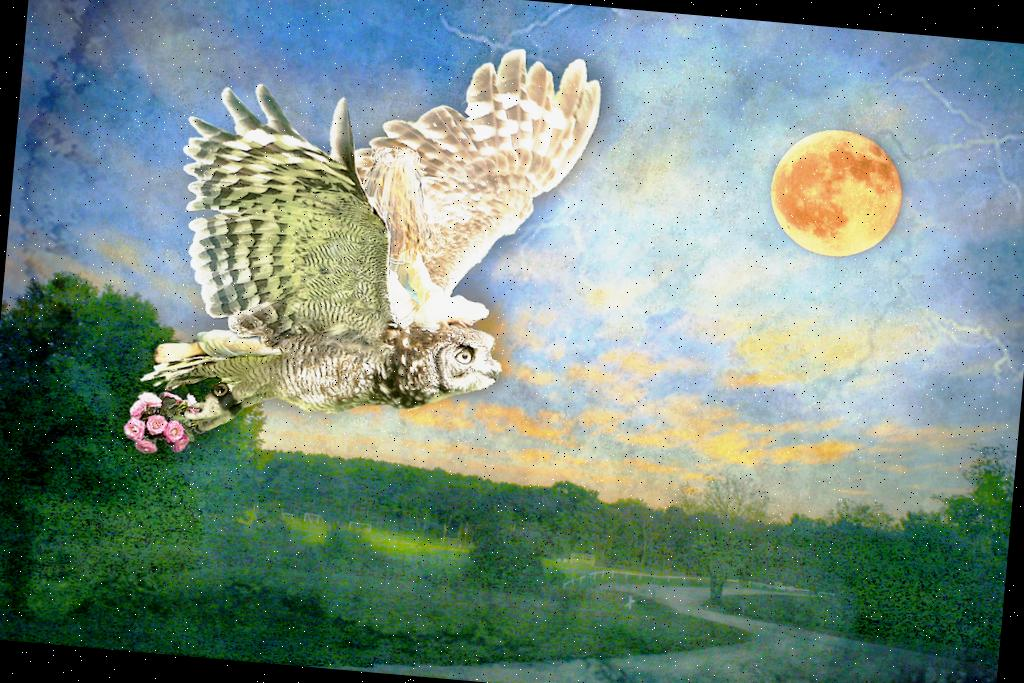Owl: (124, 18, 612, 478)
